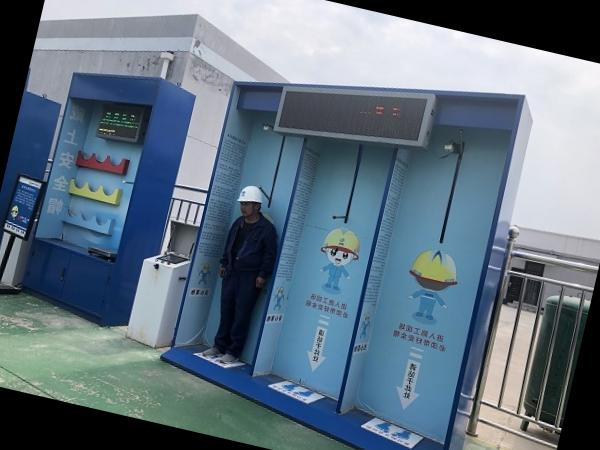helmet: (234, 180, 270, 208)
wear: (218, 212, 274, 286)
